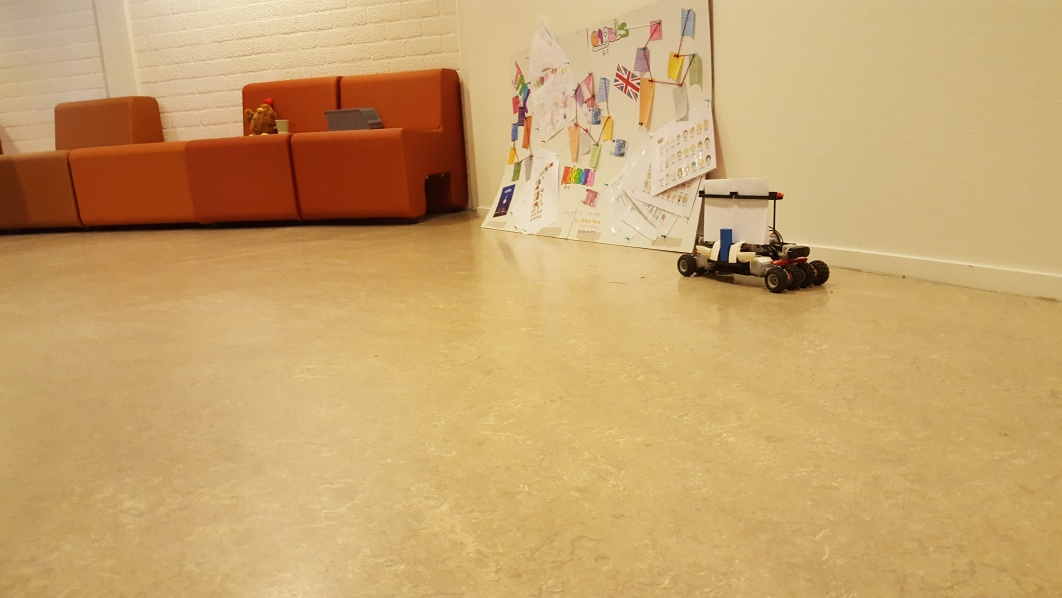car: (678, 178, 832, 293)
chicken: (244, 96, 275, 137)
cup: (273, 114, 292, 135)
tray: (317, 104, 390, 134)
